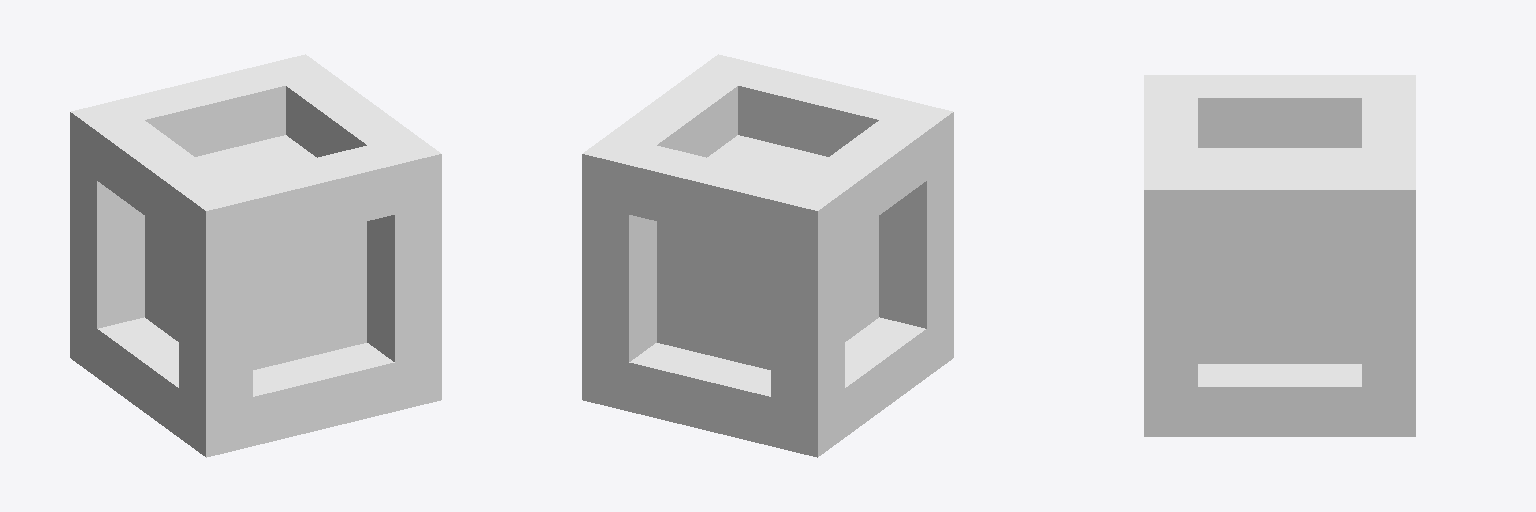
Rendered from stars.obj.
3 views of the same model, side by side, from view 1: azimuth 30°, elevation 25°; view 2: azimuth 150°, elevation 25°; view 3: azimuth 270°, elevation 25° (orthographic).
Bounding box in the file's own units: 5 × 5 × 5.